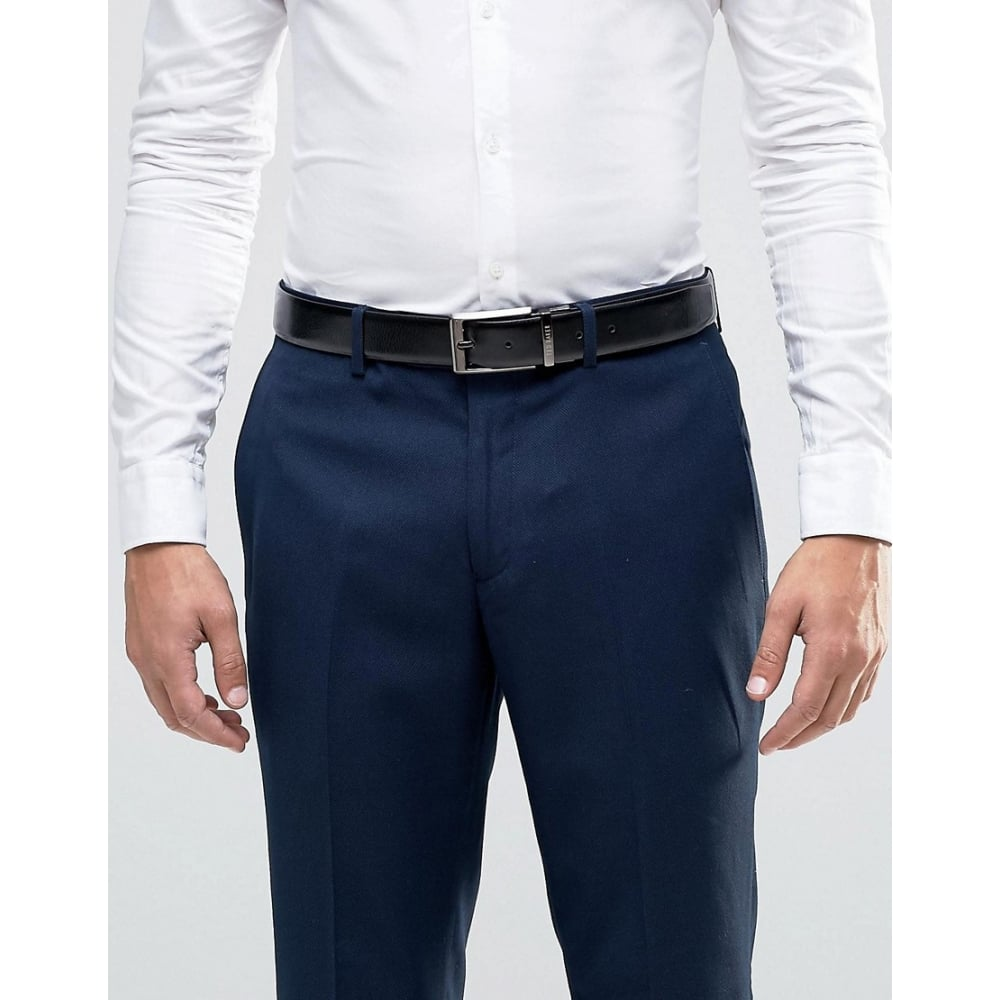F_belt: (254, 253, 739, 384)
F_dress pants: (243, 268, 780, 987)
F_shirt: (112, 1, 884, 556)
